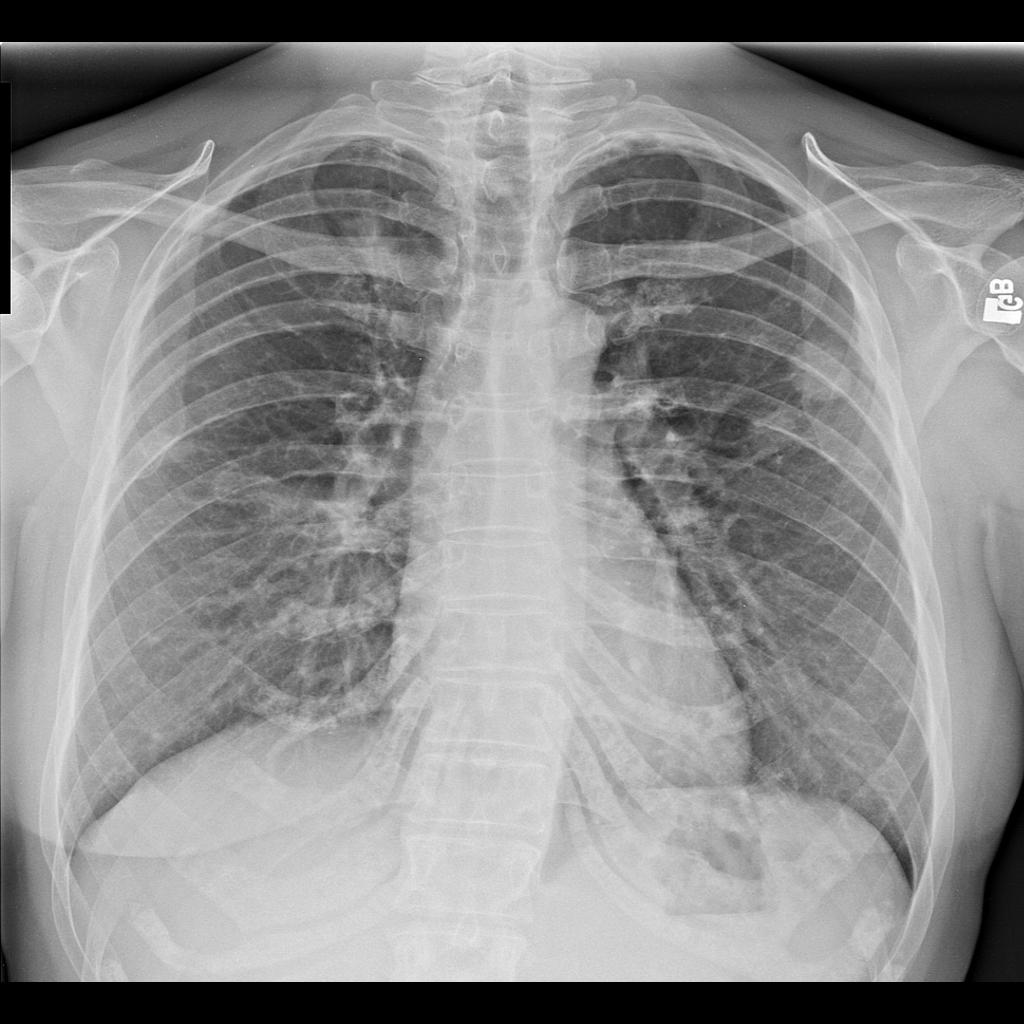Nodule: (329, 205, 411, 282), (787, 328, 855, 412), (143, 423, 220, 474)
